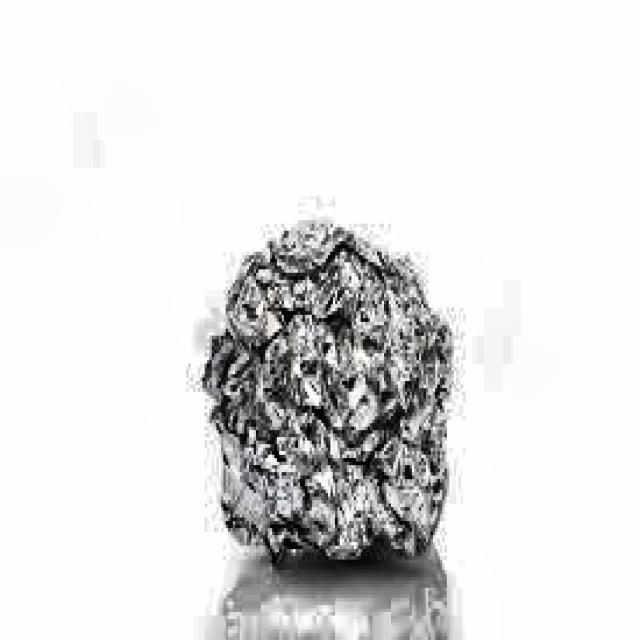Foil: (194, 214, 467, 590)
